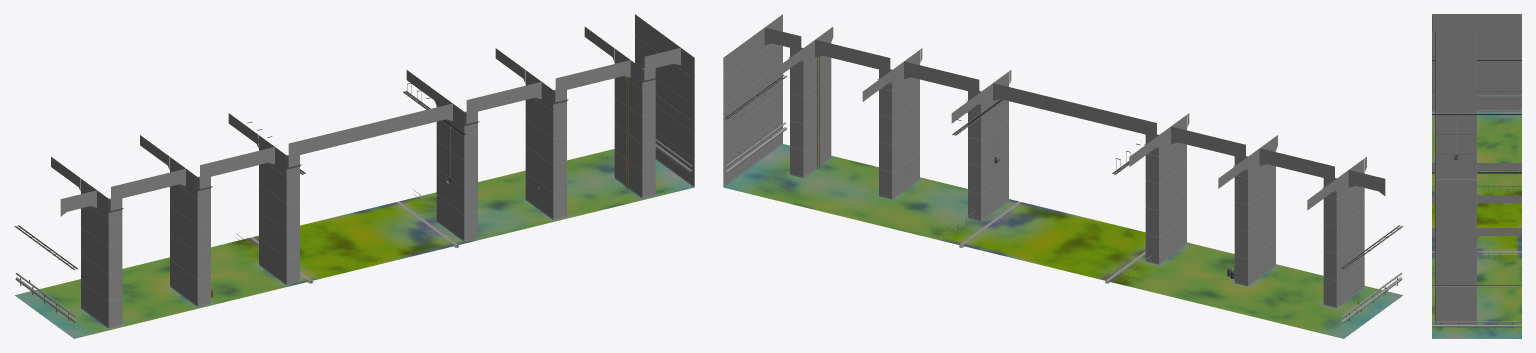
Rendered from cistern_bay_b.glb.
3 renders of one model, left to right at view 1: azimuth 30°, elevation 25°; view 2: azimuth 150°, elevation 25°; view 3: azimuth 270°, elevation 25°, orthographic. The views are drawn at different scales.
Parts seen in each view (by area): view 1: CIS_Shell, CIS_Floor, CIS_Galv, CIS_Steel; view 2: CIS_Shell, CIS_Floor, CIS_Galv, CIS_Steel; view 3: CIS_Shell, CIS_Floor, CIS_Galv, CIS_Steel.
Part boxes in pixels (<box>): CIS_Shell: <box>51,14,694,328</box>; CIS_Floor: <box>15,149,693,338</box>; CIS_Galv: <box>14,77,694,322</box>; CIS_Steel: <box>15,77,693,320</box>; CIS_Shell: <box>723,14,1385,307</box>; CIS_Floor: <box>724,144,1402,338</box>; CIS_Galv: <box>723,57,1403,322</box>; CIS_Steel: <box>724,56,1402,320</box>; CIS_Shell: <box>1432,14,1521,324</box>; CIS_Floor: <box>1432,111,1521,338</box>; CIS_Galv: <box>1432,59,1521,327</box>; CIS_Steel: <box>1432,60,1521,328</box>.
Size of the model in its own units: 90.03 by 18.35 by 15.
